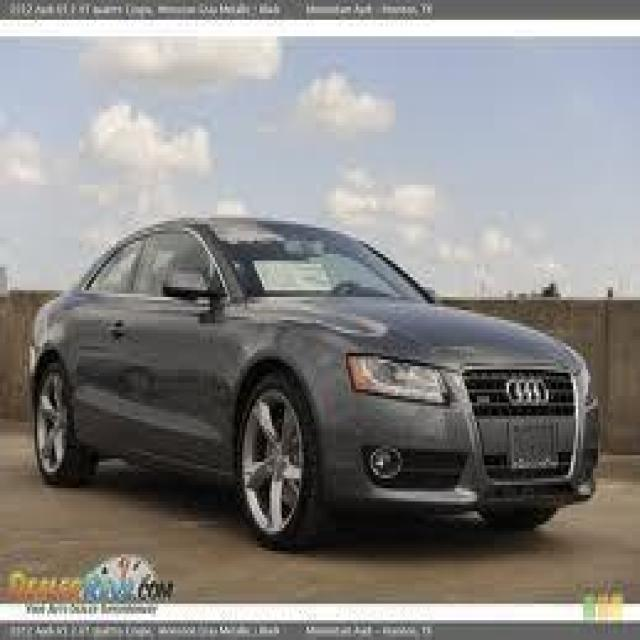Car: (22, 172, 618, 548)
